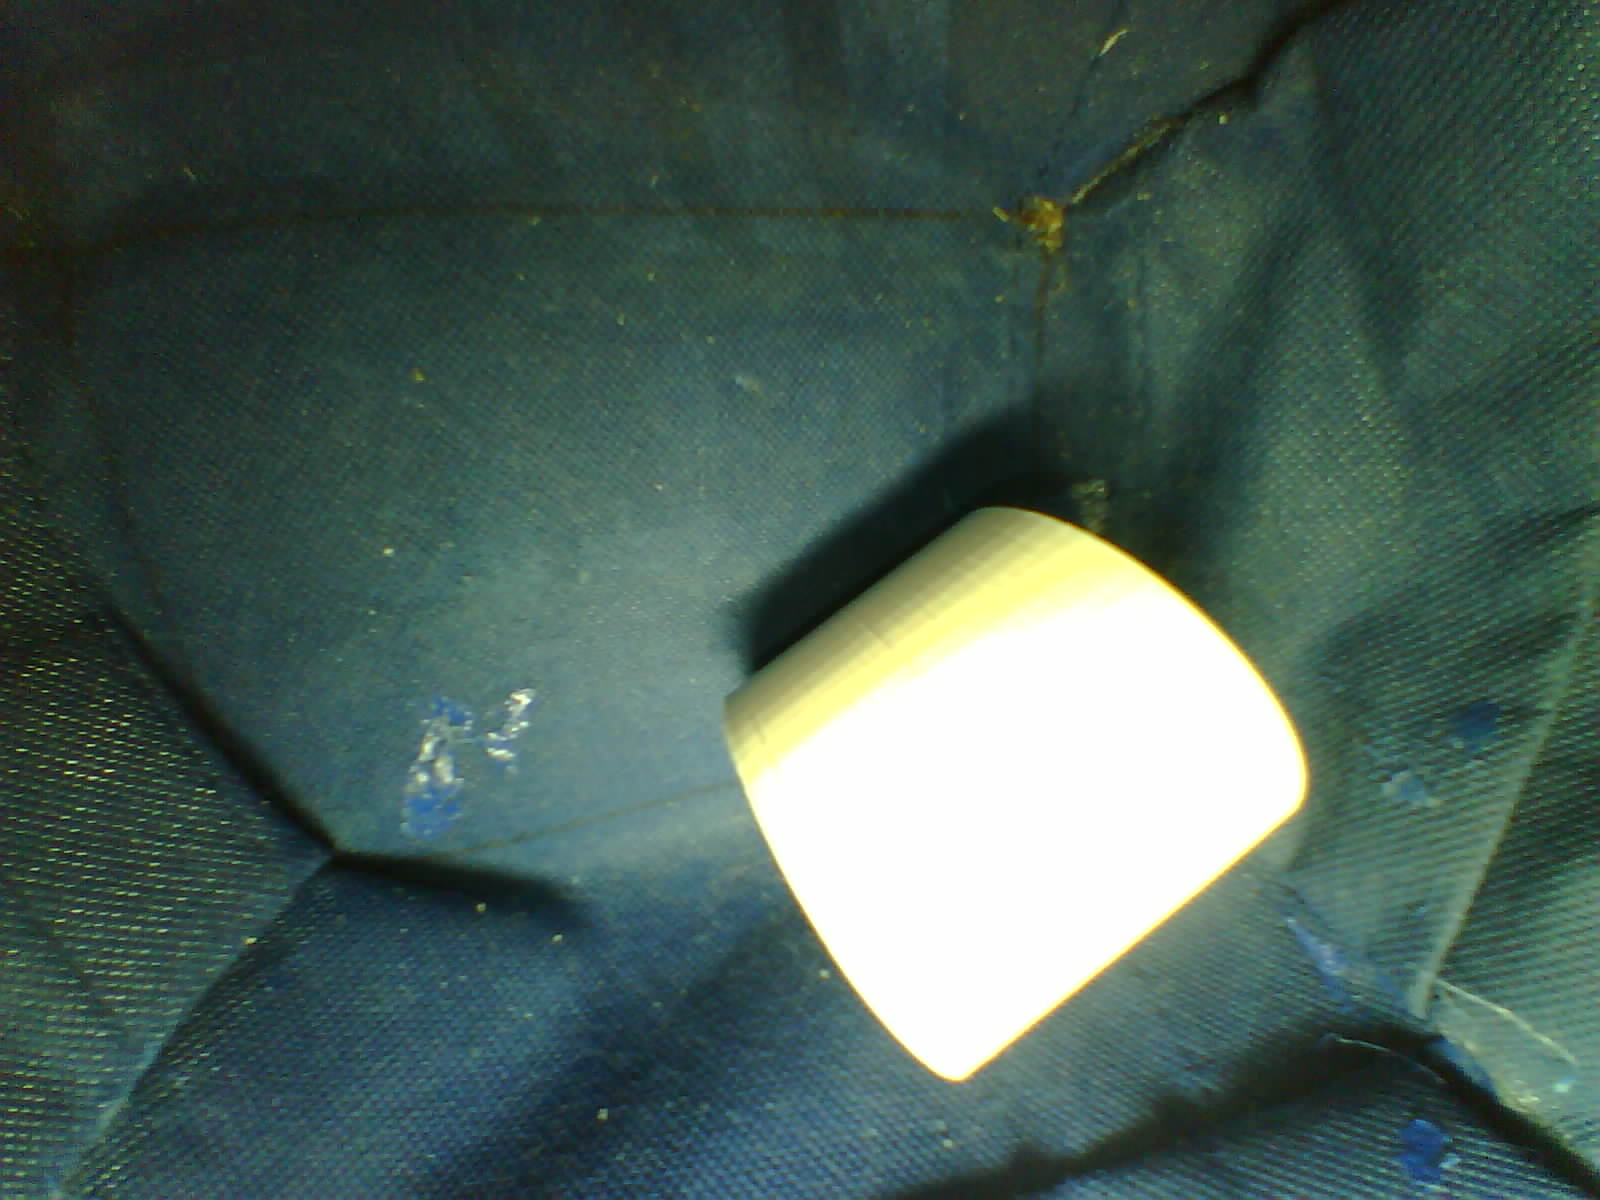cylinder-hard: (694, 482, 1315, 1098)
